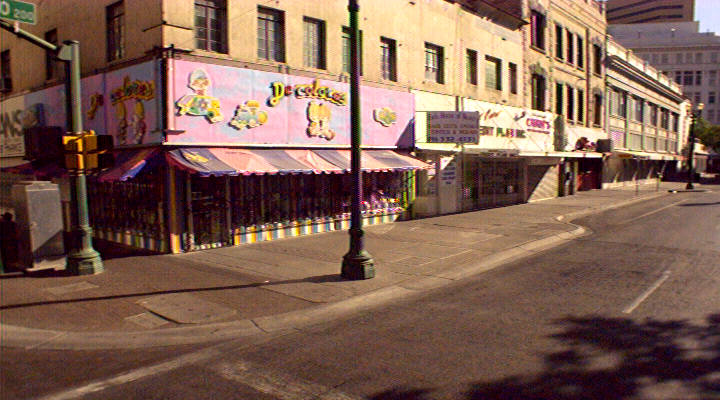Ramp: (1, 274, 342, 349)
